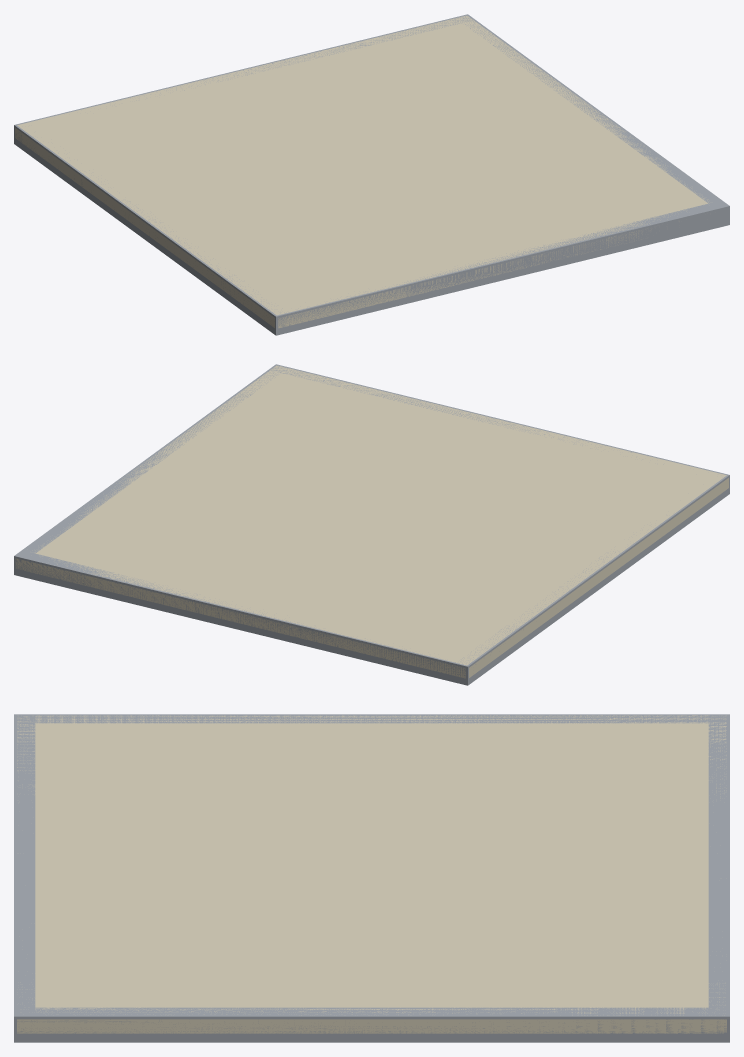
Rendered from ceilingpanel_grid_tile_1x1.glb.
3 views of the same model, one above another, from view 1: azimuth 30°, elevation 25°; view 2: azimuth 150°, elevation 25°; view 3: azimuth 270°, elevation 25° (orthographic). The views are drawn at different scales.
Parts seen in each view (by area): view 1: ceilingpanel_grid_tile_1x1; view 2: ceilingpanel_grid_tile_1x1; view 3: ceilingpanel_grid_tile_1x1.
Boxes of the visible parts, box(x1,y1,x2,y2) form: ceilingpanel_grid_tile_1x1: box(14, 14, 729, 335); ceilingpanel_grid_tile_1x1: box(14, 364, 729, 685); ceilingpanel_grid_tile_1x1: box(14, 714, 729, 1042).
Bounding box in the file's own units: 1 × 0.04 × 1.
